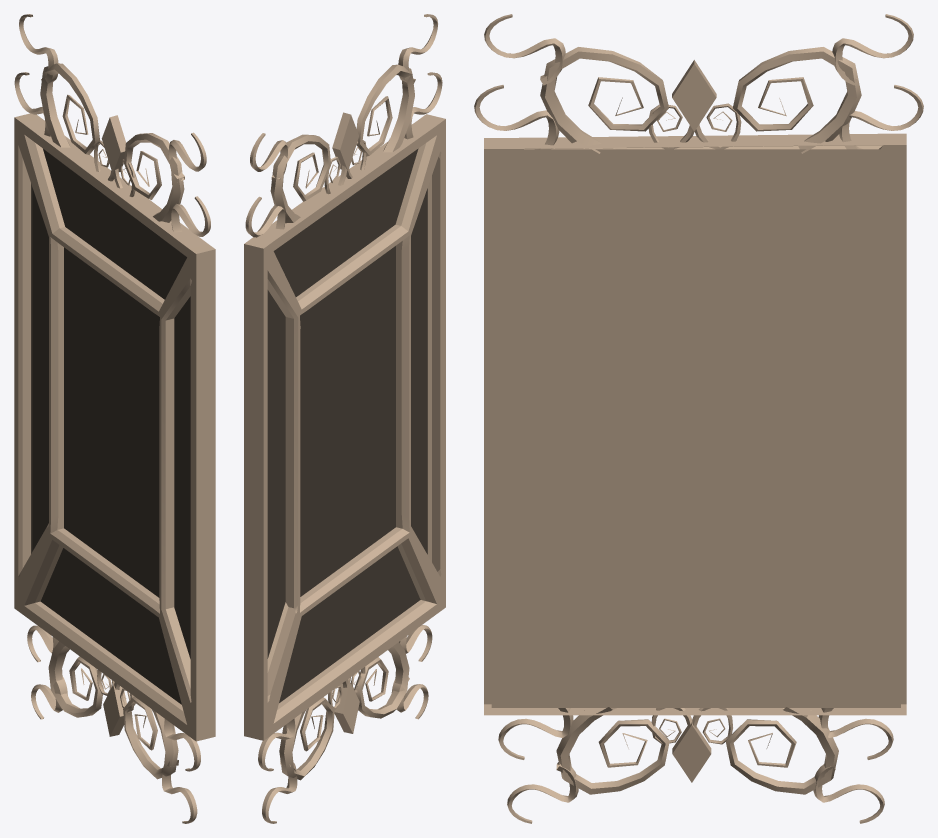
The model's file is full_mirror.fbx.
The picture shows the model from 3 angles, left to right: view 1: azimuth 30°, elevation 25°; view 2: azimuth 150°, elevation 25°; view 3: azimuth 270°, elevation 25°; orthographic projection. The views are drawn at different scales.
Visible parts, largest first — view 1: mirror_full1; view 2: mirror_full1; view 3: mirror_full1.
Boxes of the visible parts, box(x1,y1,x2,y2) form: mirror_full1: box(14, 14, 215, 823); mirror_full1: box(244, 14, 445, 823); mirror_full1: box(474, 14, 923, 823).
Bounding box in the file's own units: 1.84 × 62.77 × 31.65.
